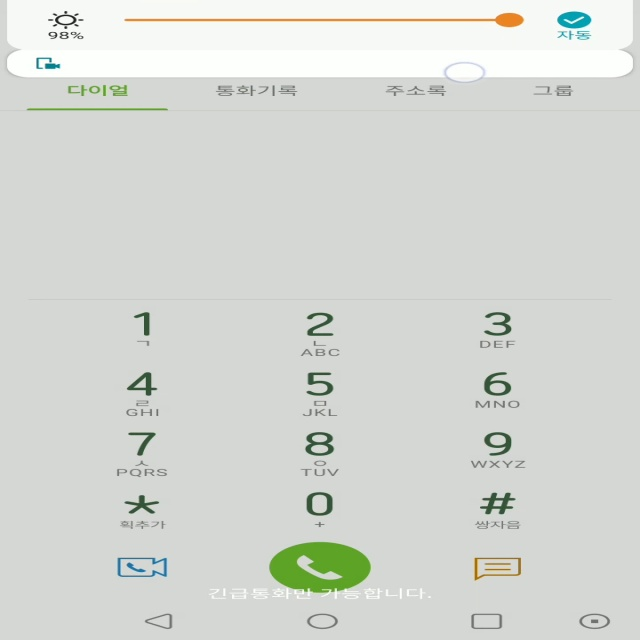Cursor: (442, 61, 487, 84)
